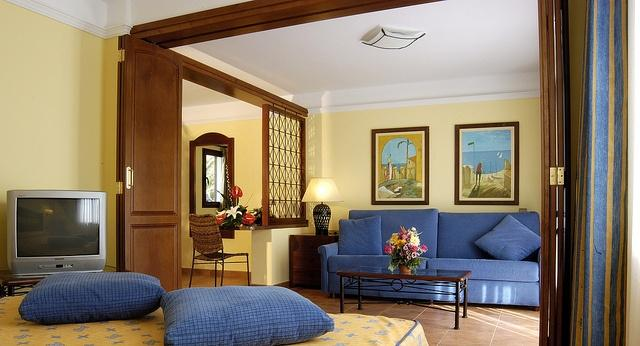Kursi: (186, 213, 249, 289)
Meja: (337, 264, 471, 330)
